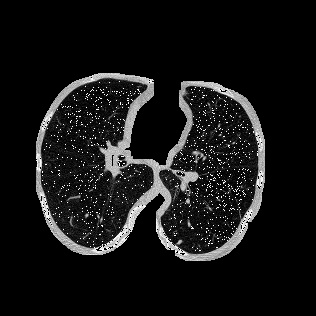PN: (177, 240, 181, 244)
